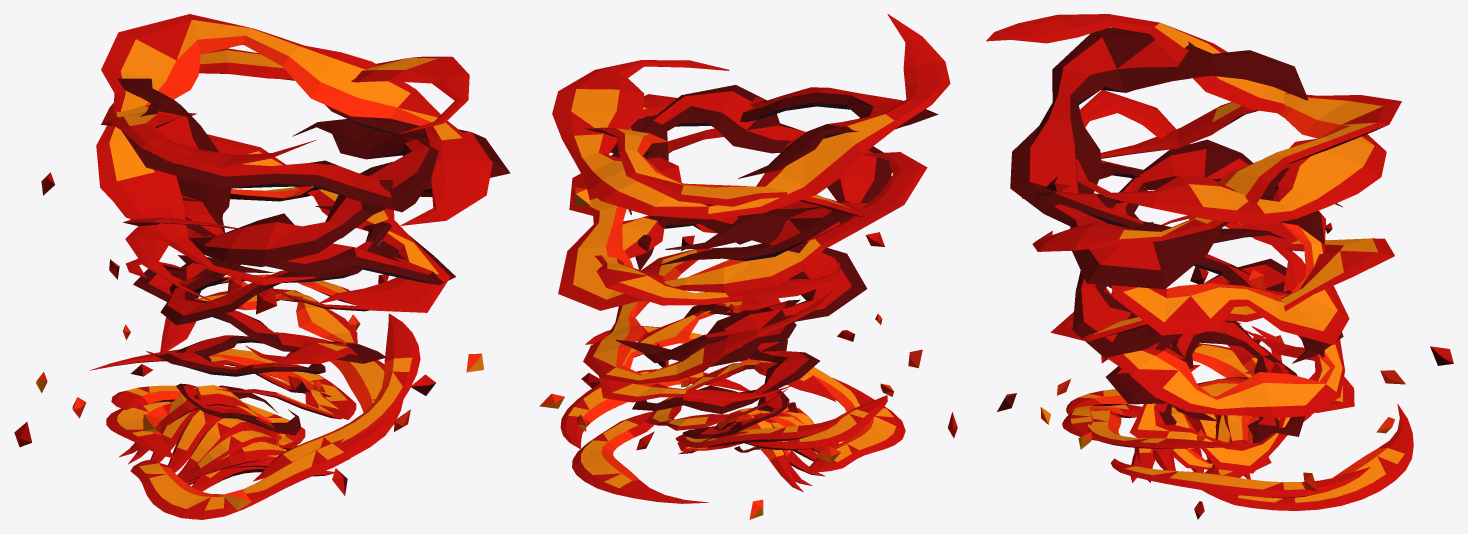
Rendered from Inferno_Spiral.fbx.
The picture shows the model from 3 angles, left to right: view 1: azimuth 30°, elevation 25°; view 2: azimuth 150°, elevation 25°; view 3: azimuth 270°, elevation 25°; orthographic projection. The views are drawn at different scales.
Parts seen in each view (by area): view 1: Travel_Ribbon_14, FIRE_IMPACT, Travel_Ribbon_13, Travel_Ribbon_15, Travel_Ribbon_16, Travel_Ribbon_10, Travel_Ribbon_11, Travel_Ribbon_06, Travel_Ribbon_09, Travel_Ribbon_07, Travel_Ribbon_05, Travel_Ribbon_04 (+10 smaller); view 2: Travel_Ribbon_16, FIRE_IMPACT, Travel_Ribbon_12, Travel_Ribbon_13, Travel_Ribbon_08, Travel_Ribbon_09, Travel_Ribbon_10, Travel_Ribbon_14, Travel_Ribbon_15, Travel_Ribbon_06, Travel_Ribbon_11, Travel_Ribbon_05 (+4 smaller); view 3: Travel_Ribbon_15, Travel_Ribbon_16, FIRE_IMPACT, Travel_Ribbon_14, Travel_Ribbon_12, Travel_Ribbon_08, Travel_Ribbon_11, Travel_Ribbon_10, Travel_Ribbon_04, Travel_Ribbon_13, Travel_Ribbon_05, Travel_Ribbon_07 (+5 smaller).
Boxes of the visible parts, box(x1,y1,x2,y2) form: Travel_Ribbon_14: box(96, 14, 492, 285); FIRE_IMPACT: box(14, 259, 483, 519); Travel_Ribbon_13: box(176, 119, 438, 266); Travel_Ribbon_15: box(117, 78, 510, 212); Travel_Ribbon_16: box(101, 48, 469, 167); Travel_Ribbon_10: box(125, 134, 450, 312); Travel_Ribbon_11: box(181, 195, 455, 284); Travel_Ribbon_06: box(159, 289, 357, 363); Travel_Ribbon_09: box(160, 222, 391, 324); Travel_Ribbon_07: box(133, 255, 386, 363); Travel_Ribbon_05: box(157, 335, 325, 376); Travel_Ribbon_04: box(146, 351, 347, 419); Travel_Ribbon_16: box(552, 14, 950, 219); FIRE_IMPACT: box(539, 326, 957, 519); Travel_Ribbon_12: box(558, 128, 927, 310); Travel_Ribbon_13: box(612, 85, 891, 252); Travel_Ribbon_08: box(583, 247, 832, 384); Travel_Ribbon_09: box(615, 215, 867, 366); Travel_Ribbon_10: box(594, 215, 840, 305); Travel_Ribbon_14: box(585, 94, 891, 218); Travel_Ribbon_15: box(610, 87, 938, 178); Travel_Ribbon_06: box(599, 298, 796, 402); Travel_Ribbon_11: box(638, 201, 844, 265); Travel_Ribbon_05: box(632, 339, 819, 414); Travel_Ribbon_15: box(1010, 27, 1308, 289); Travel_Ribbon_16: box(986, 14, 1386, 224); FIRE_IMPACT: box(997, 266, 1453, 519); Travel_Ribbon_14: box(1022, 93, 1401, 251); Travel_Ribbon_12: box(1080, 90, 1349, 344); Travel_Ribbon_08: box(1116, 222, 1344, 418); Travel_Ribbon_11: box(1072, 139, 1324, 357); Travel_Ribbon_10: box(1050, 215, 1394, 341); Travel_Ribbon_04: box(1129, 326, 1311, 473); Travel_Ribbon_13: box(1034, 160, 1342, 243); Travel_Ribbon_05: box(1163, 321, 1304, 436); Travel_Ribbon_07: box(1106, 258, 1343, 404).
Size of the model in its own units: 728 by 639 by 682.
